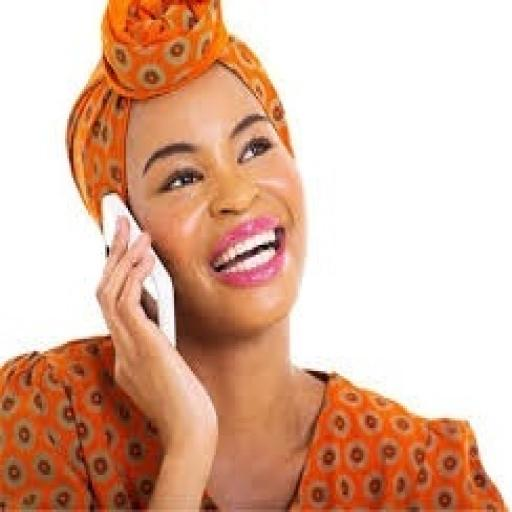calling: (0, 0, 510, 510)
